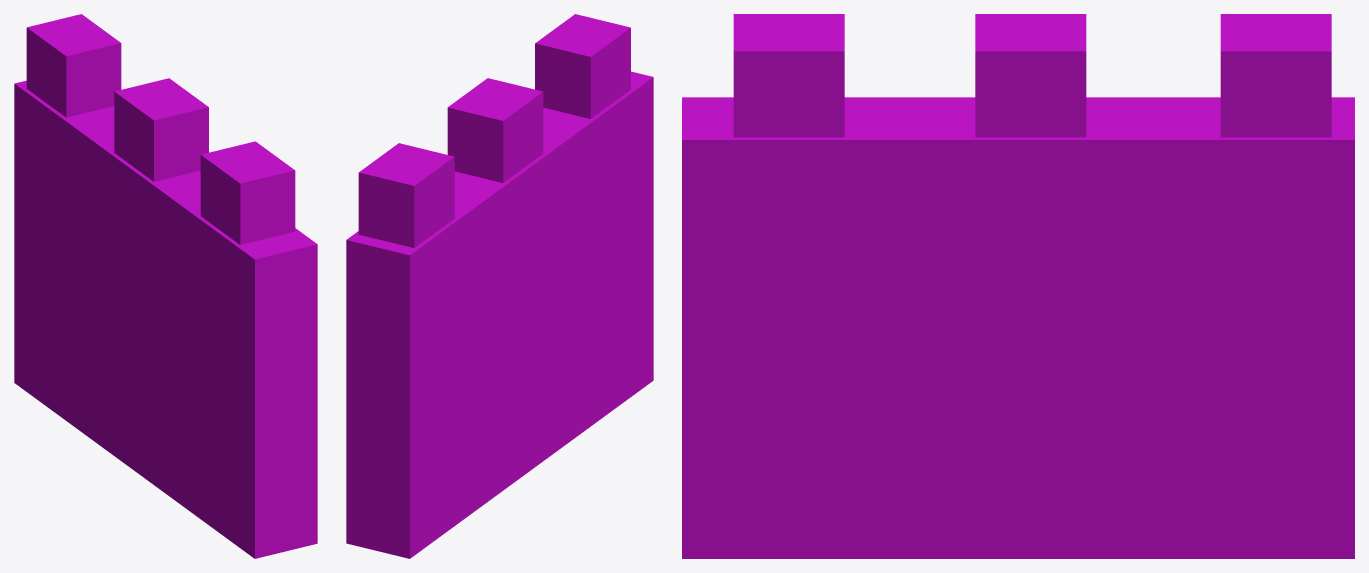
Rendered from Tower5.fbx.
3 views of the same model, side by side, from view 1: azimuth 30°, elevation 25°; view 2: azimuth 150°, elevation 25°; view 3: azimuth 270°, elevation 25° (orthographic). The views are drawn at different scales.
Visible parts, largest first — view 1: Cube.035; view 2: Cube.035; view 3: Cube.035.
Boxes of the visible parts, left/top/right/bottom form: Cube.035: left=14, top=14, right=317, bottom=558; Cube.035: left=346, top=14, right=653, bottom=558; Cube.035: left=682, top=14, right=1354, bottom=558.
Bounding box in the file's own units: 0.7595 × 5.05 × 4.18.
